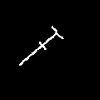double_crochet: (19, 26, 62, 64)
